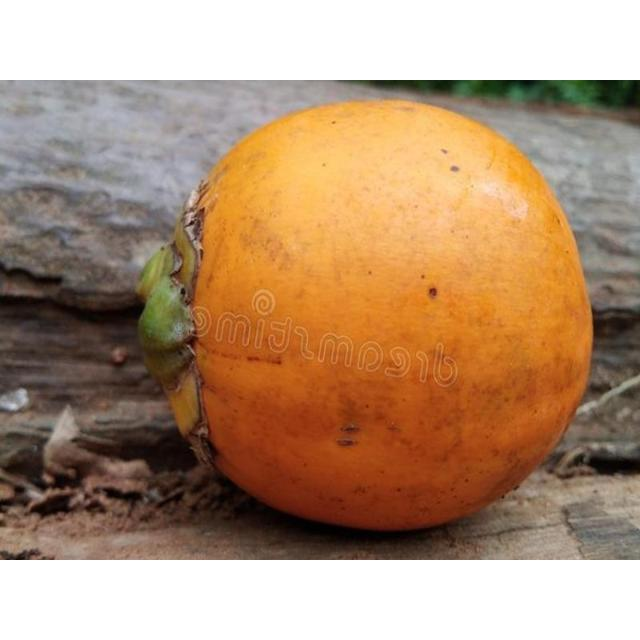good: (137, 100, 594, 535)
